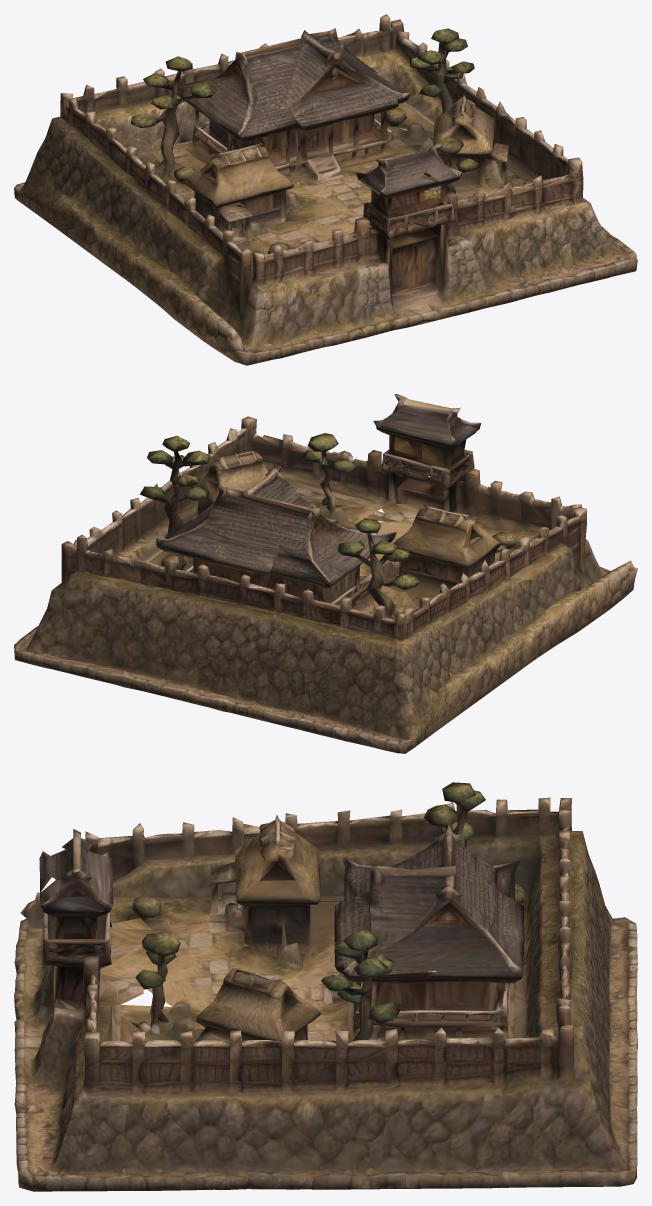
File: city-county-japan.glb
The picture shows the model from 3 angles, top to bottom: view 1: azimuth 30°, elevation 25°; view 2: azimuth 150°, elevation 25°; view 3: azimuth 270°, elevation 25°; orthographic projection. The views are drawn at different scales.
Visible parts, largest first — view 1: tripo_node_4951f756-fabf-4969-869d-baf519fd53a7; view 2: tripo_node_4951f756-fabf-4969-869d-baf519fd53a7; view 3: tripo_node_4951f756-fabf-4969-869d-baf519fd53a7.
Boxes of the visible parts, x1,y1,x2,y2 form: tripo_node_4951f756-fabf-4969-869d-baf519fd53a7: (14, 14, 637, 365); tripo_node_4951f756-fabf-4969-869d-baf519fd53a7: (14, 394, 637, 753); tripo_node_4951f756-fabf-4969-869d-baf519fd53a7: (14, 782, 637, 1191).
Size of the model in its own units: 0.6792 by 0.2601 by 0.68.
1 material, 1 textured.
